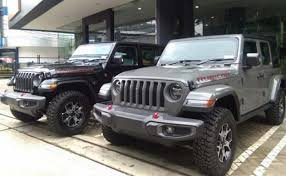mobil: (106, 34, 286, 173), (7, 42, 112, 146)
